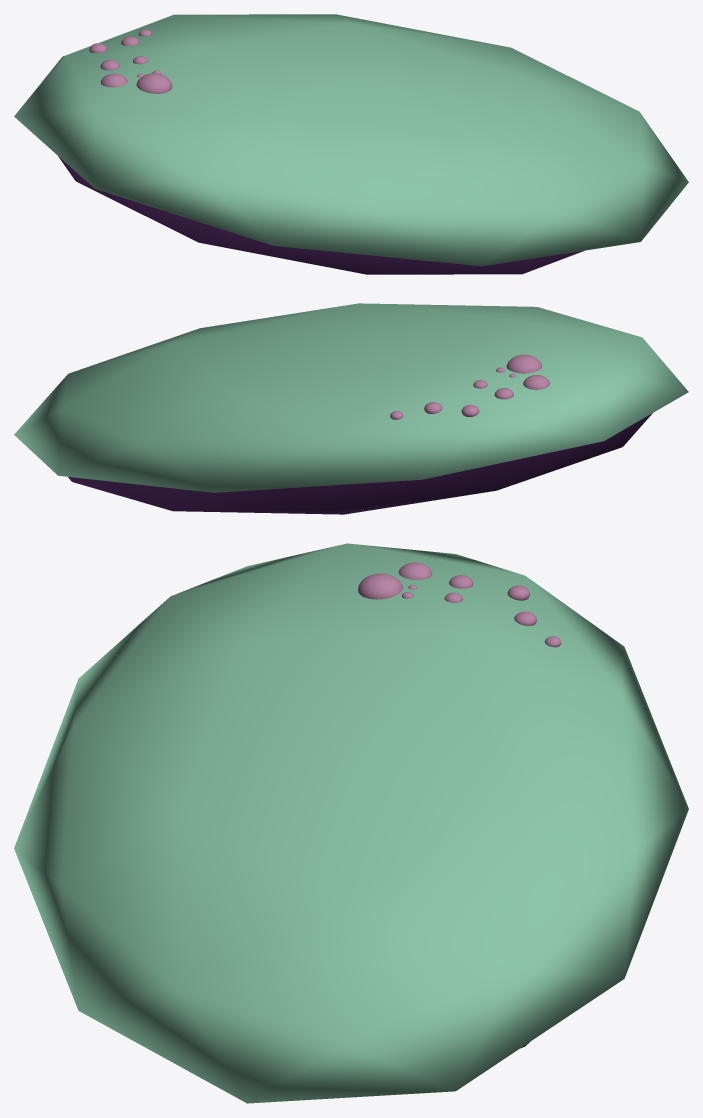
Rendered from FlatRock.glb.
The picture shows the model from 3 angles, top to bottom: view 1: azimuth 30°, elevation 25°; view 2: azimuth 150°, elevation 25°; view 3: azimuth 270°, elevation 25°; orthographic projection. The views are drawn at different scales.
Visible parts, largest first — view 1: Rock, Flowers; view 2: Rock, Flowers; view 3: Rock, Flowers.
Part boxes in pixels (<box>): Rock: <box>14,14,688,274</box>; Flowers: <box>89,29,172,93</box>; Rock: <box>14,303,688,514</box>; Flowers: <box>390,354,549,419</box>; Rock: <box>14,543,688,1103</box>; Flowers: <box>358,562,561,647</box>.
Size of the model in its own units: 6.46 by 2.11 by 5.05.
